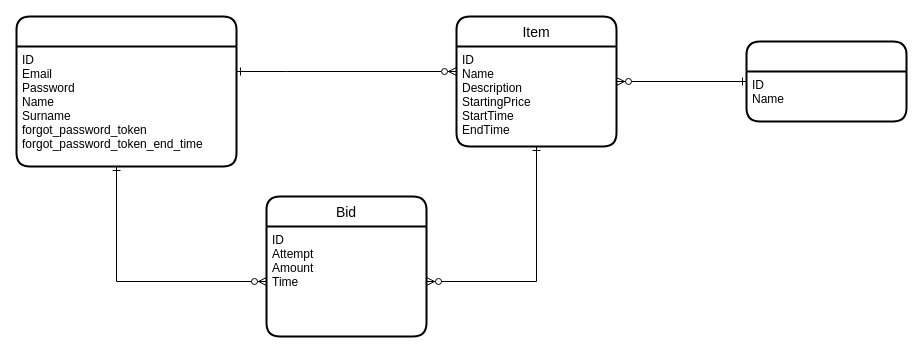
This 923x353 diagram has some shape labels left out. The shapes that lost their labels are listed below. From the top down, each one's box as (x1, y1, x2, y2) in pixels, then its label:
(15, 15, 237, 167): User
(745, 40, 907, 122): Category
